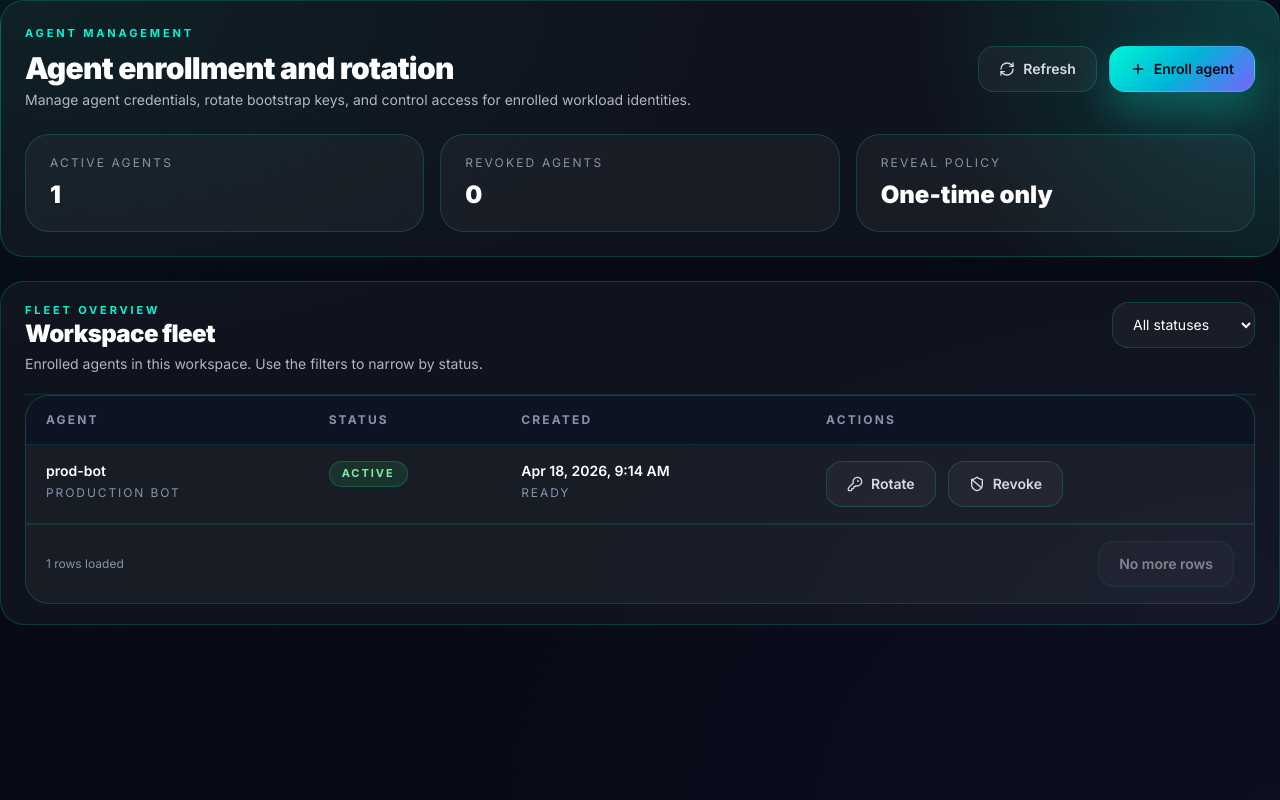
Test: AgentsPage › renders agents and allows enrollment
Check: the text "prod-bot" is shown, box [46, 462, 106, 479]
Check: the text "Production Bot" is shown, box [46, 485, 181, 500]
Note: Open Enroll Modal
Click the button "Enroll agent".
click(1182, 69)  # box [1109, 46, 1255, 92]
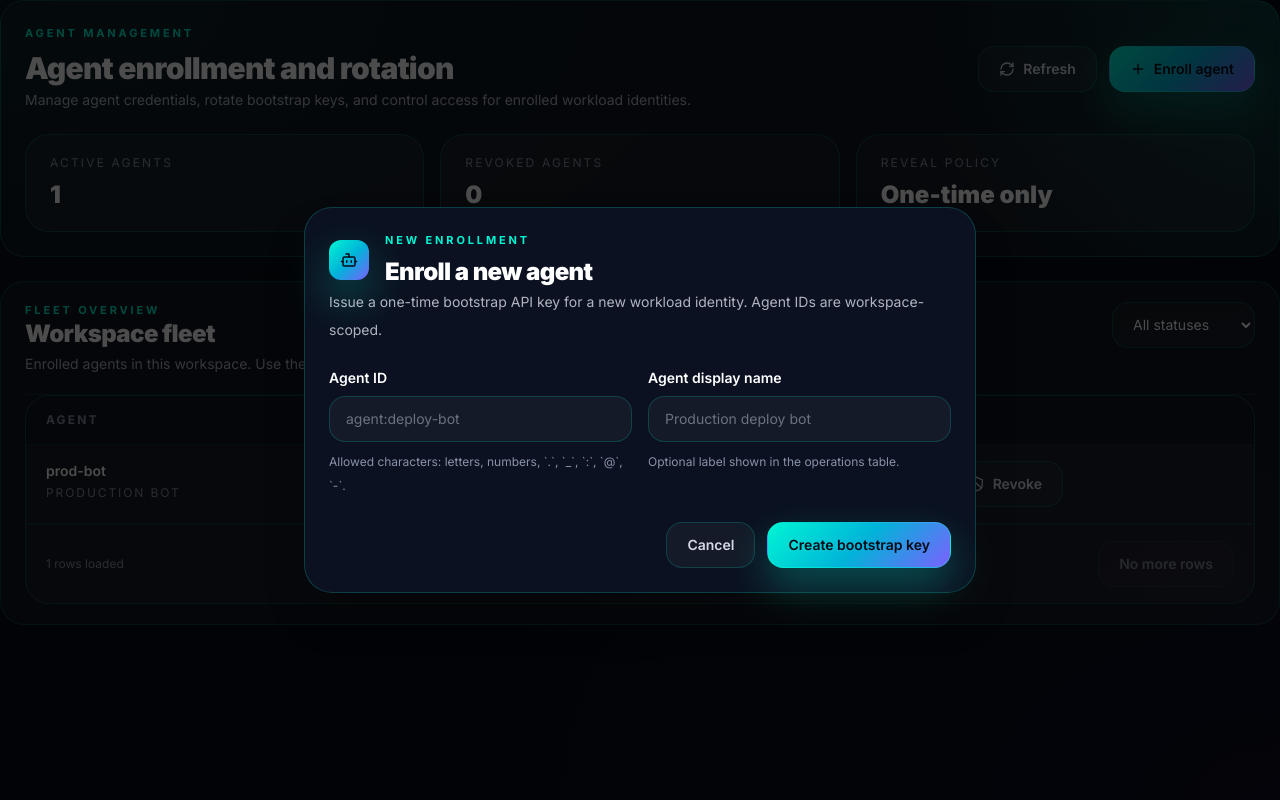
Check: the heading "Enroll a new agent" is shown, box [385, 256, 593, 288]
